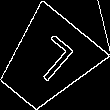L_SW: (18, 32, 76, 91)
